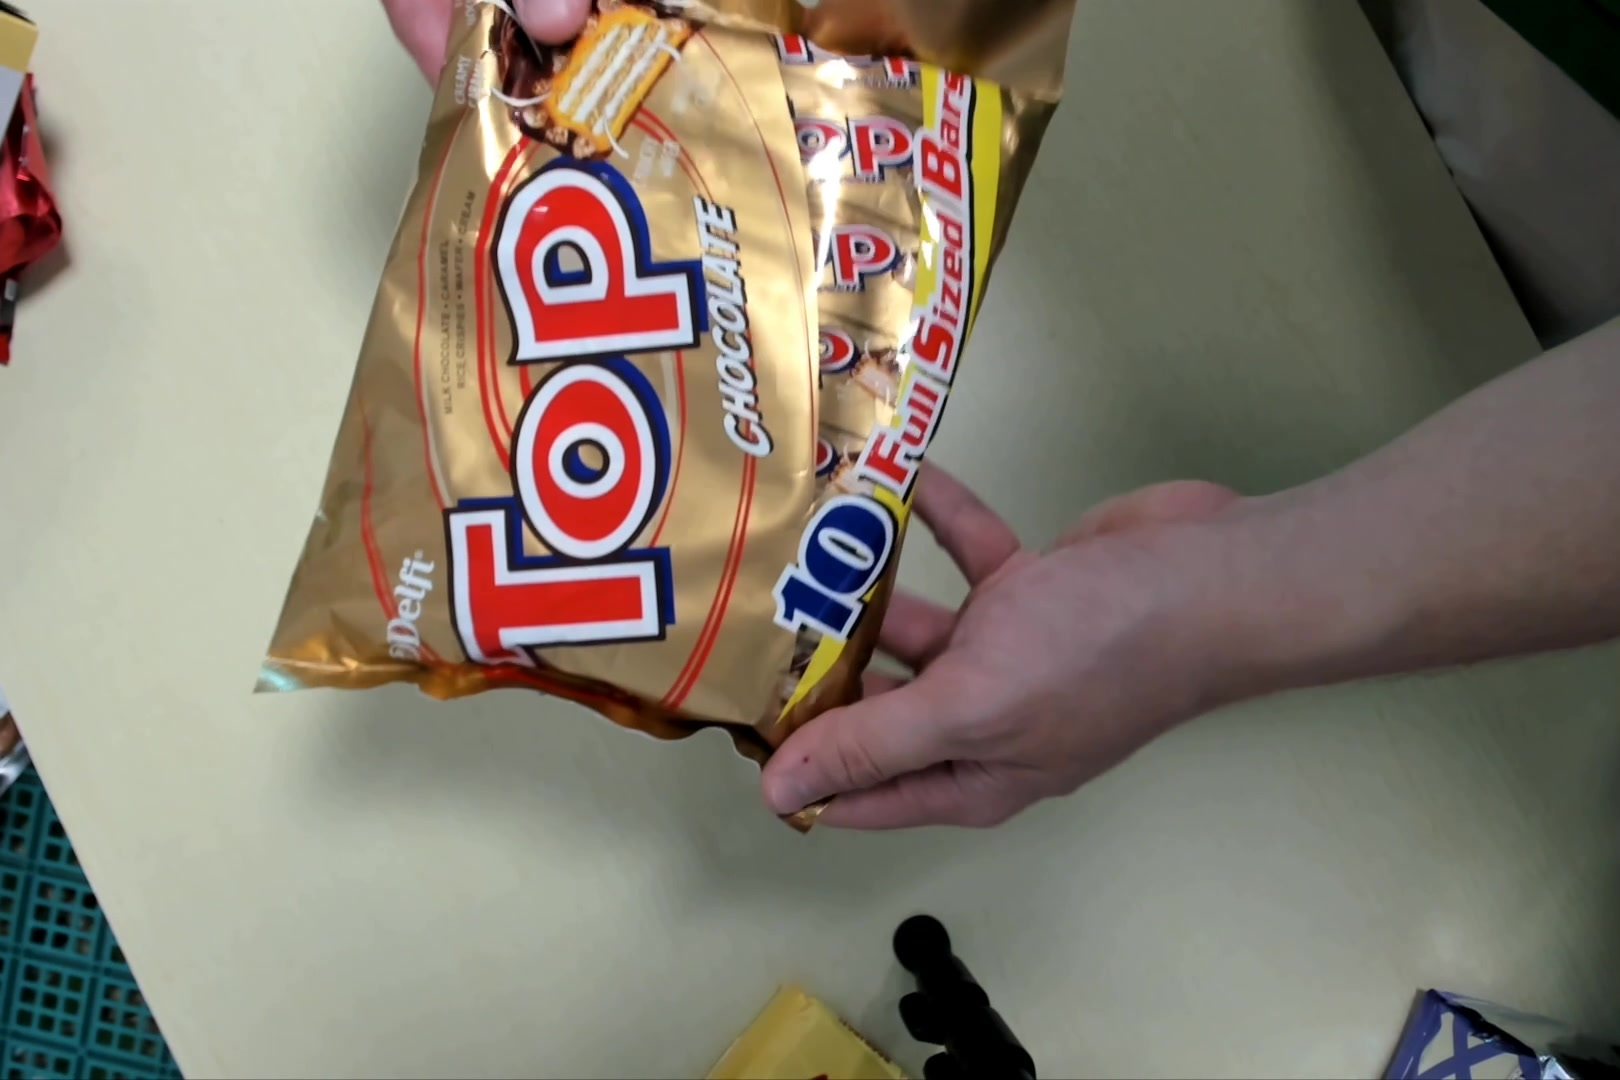SweetsChocolatesOthers_100-199g_NonHalal_NonHealthy: (259, 2, 1068, 777)
